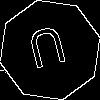U: (25, 25, 71, 78)
